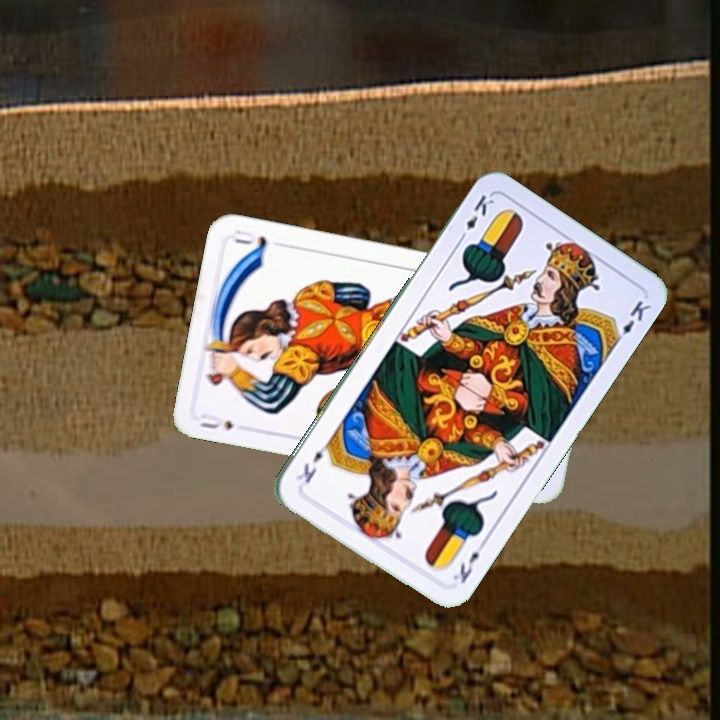EK: (454, 190, 497, 245), (449, 537, 488, 586)
SU: (195, 409, 236, 432)
